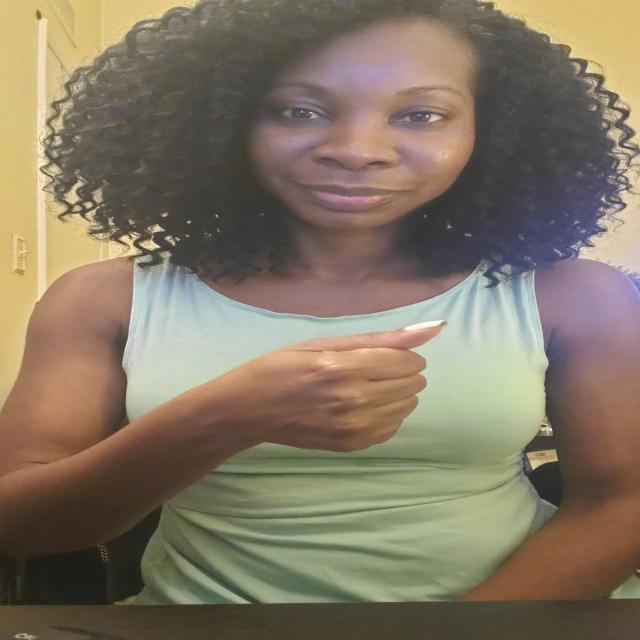Rock: (238, 314, 450, 464)
